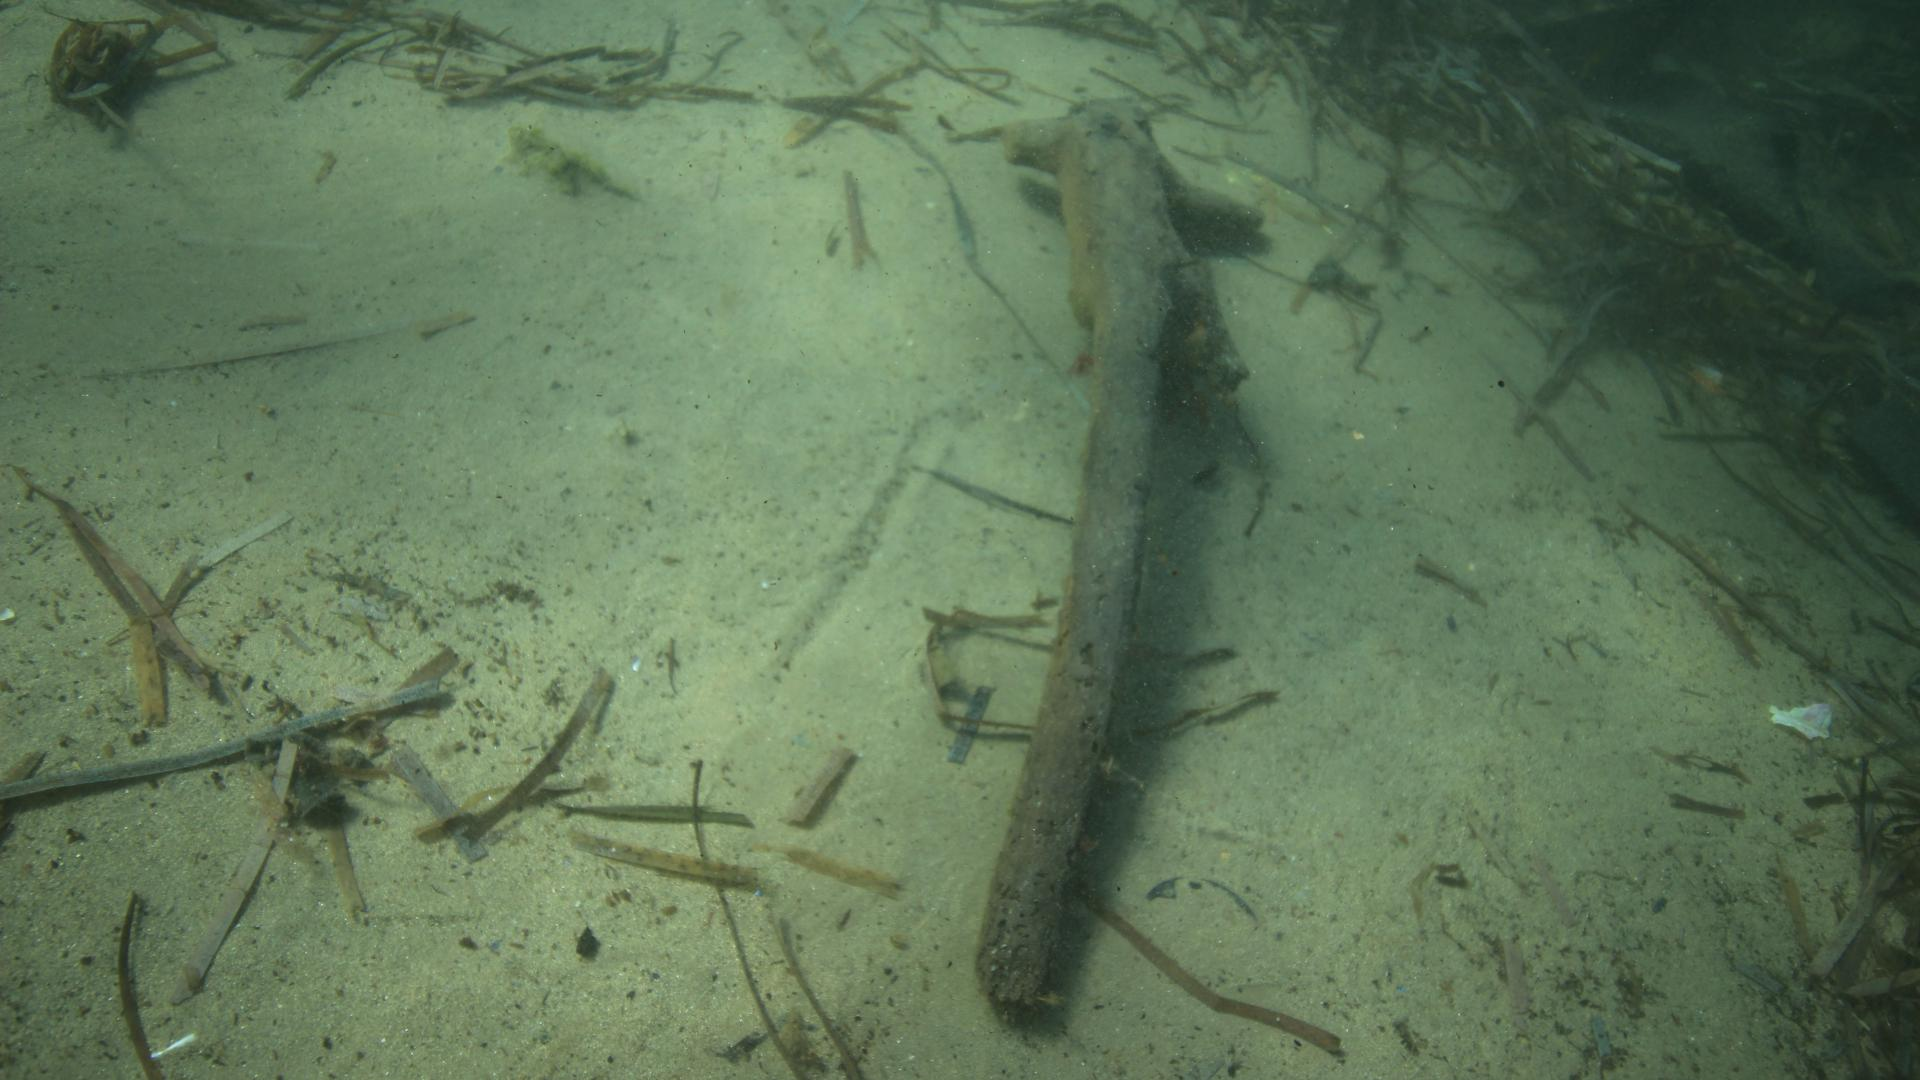wood: (975, 94, 1266, 1005)
